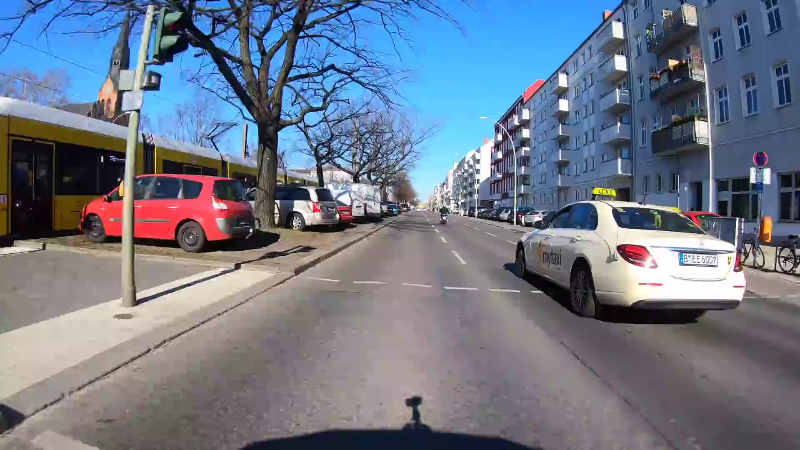Plate: (676, 250, 722, 269)
